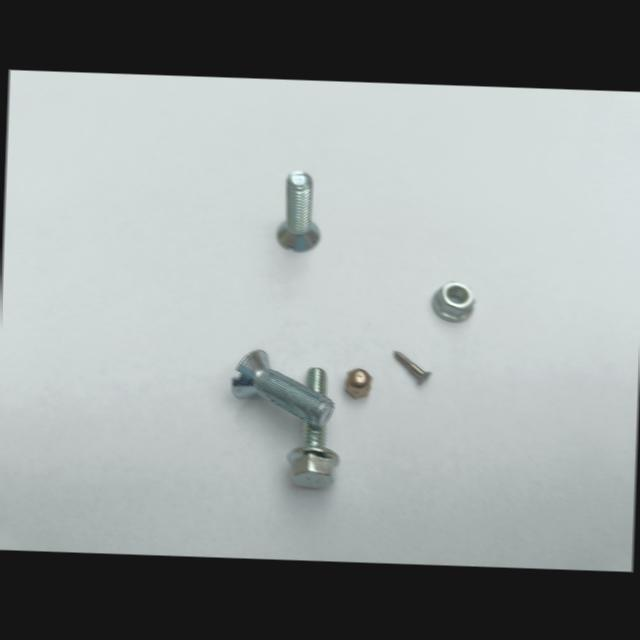bolt: (230, 349, 334, 427), (286, 367, 339, 487), (275, 170, 320, 251), (392, 350, 431, 383)
nuts: (430, 281, 474, 322), (343, 367, 371, 398)
